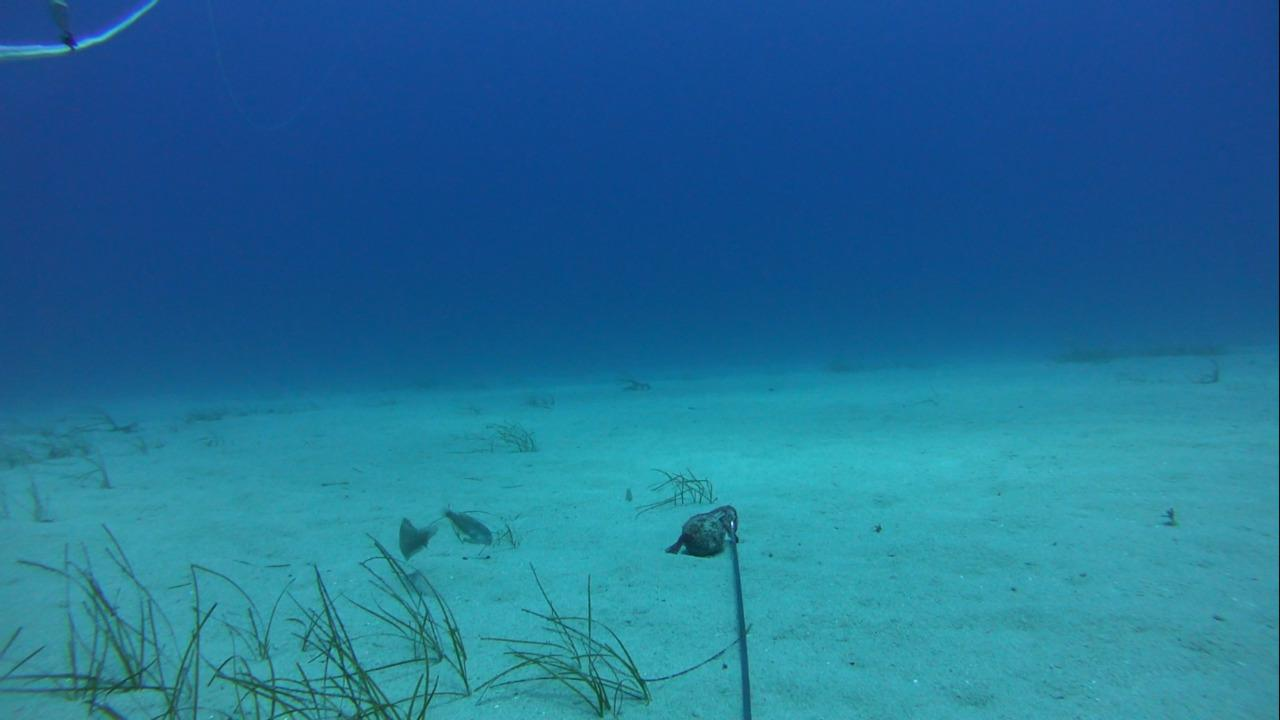raor: (433, 497, 497, 553), (382, 503, 442, 562)
